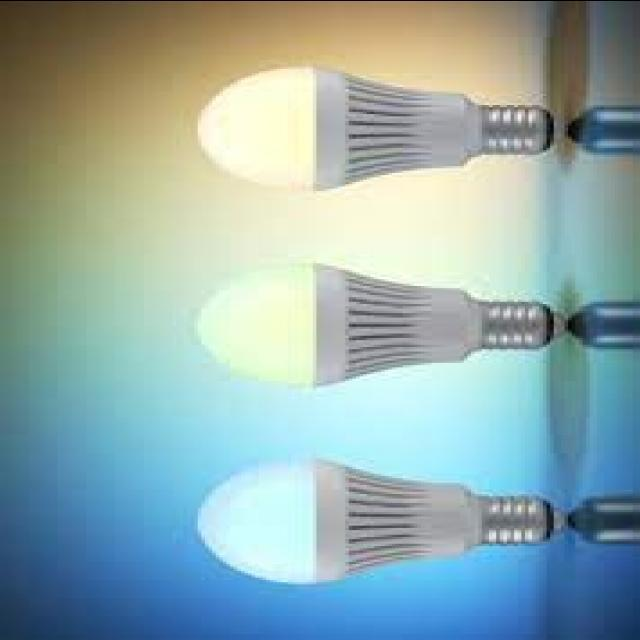light_bulb: (181, 57, 567, 199), (185, 254, 575, 394), (183, 449, 573, 588)
